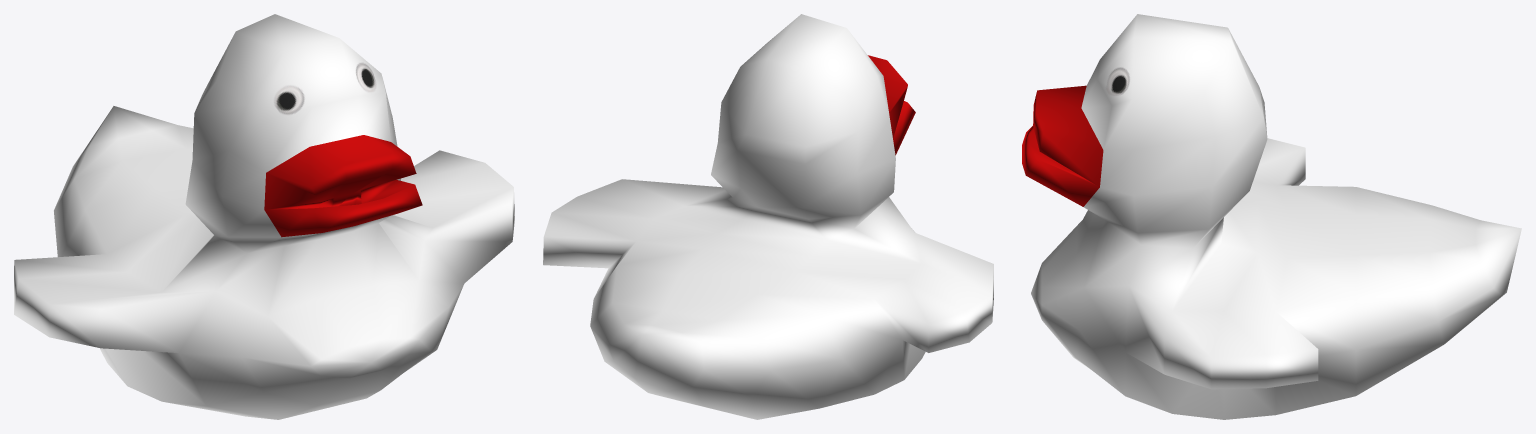
The model's file is white.fbx.
3 renders of one model, left to right at view 1: azimuth 30°, elevation 25°; view 2: azimuth 150°, elevation 25°; view 3: azimuth 270°, elevation 25°, orthographic. The views are drawn at different scales.
Visible parts, largest first — view 1: uv:pSphere1; view 2: uv:pSphere1; view 3: uv:pSphere1.
Boxes of the visible parts, x1,y1,x2,y2 form: uv:pSphere1: (14,14,514,419); uv:pSphere1: (543,14,993,419); uv:pSphere1: (1022,14,1521,419).
Size of the model in its own units: 82.97 by 63.43 by 79.4.
